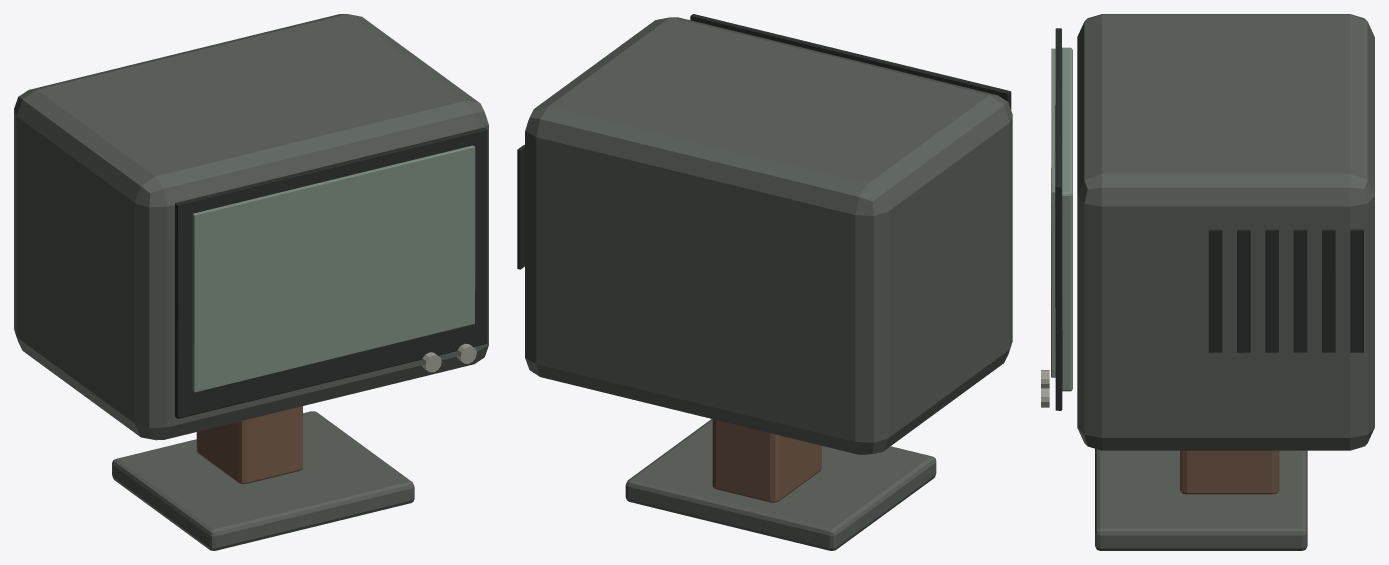
File: crt_monitor_low.glb
The picture shows the model from 3 angles, left to right: view 1: azimuth 30°, elevation 25°; view 2: azimuth 150°, elevation 25°; view 3: azimuth 270°, elevation 25°; orthographic projection. The views are drawn at different scales.
Visible parts, largest first — view 1: crt_monitor.001; view 2: crt_monitor.001; view 3: crt_monitor.001.
Boxes of the visible parts, x1,y1,x2,y2 form: crt_monitor.001: (14, 14, 488, 550); crt_monitor.001: (517, 14, 1012, 550); crt_monitor.001: (1041, 14, 1374, 550).
Bounding box in the file's own units: 0.6058 × 0.6325 × 0.471.
